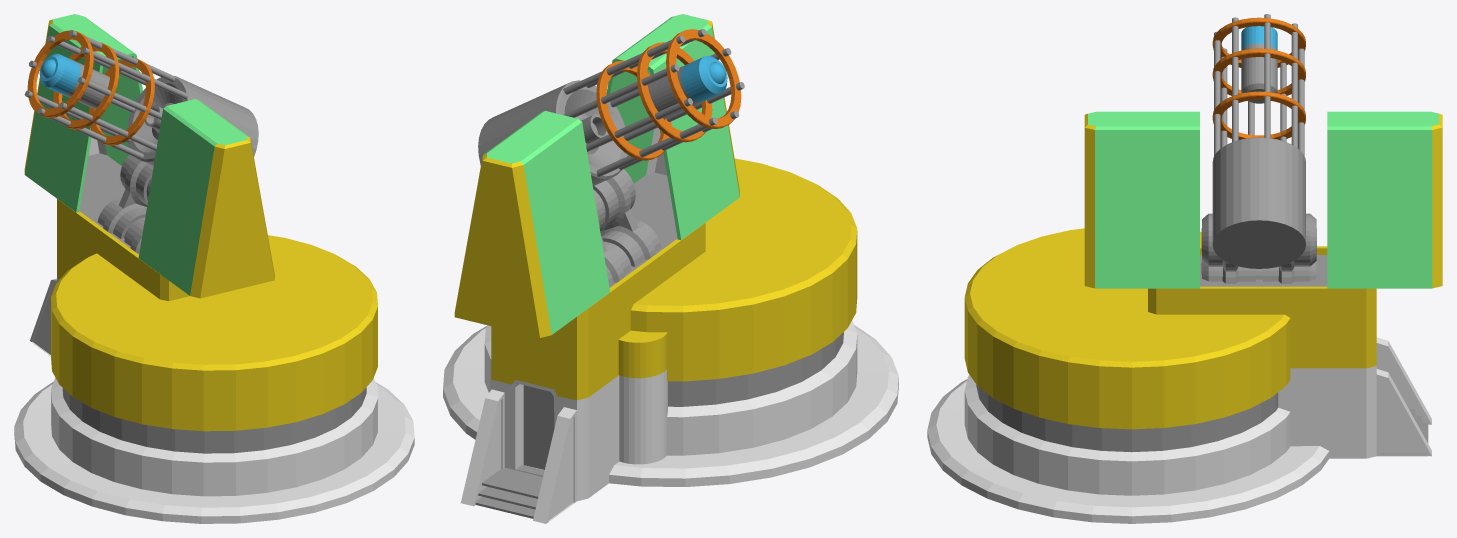
The model's file is Astro_Hub.fbx.
The picture shows the model from 3 angles, left to right: view 1: azimuth 30°, elevation 25°; view 2: azimuth 150°, elevation 25°; view 3: azimuth 270°, elevation 25°; orthographic projection. The views are drawn at different scales.
Parts seen in each view (by area): view 1: Cylinder.006; view 2: Cylinder.006; view 3: Cylinder.006.
Part boxes in pixels (x1,y1,x2,y2): Cylinder.006: [14, 14, 414, 523]; Cylinder.006: [443, 14, 898, 523]; Cylinder.006: [927, 14, 1442, 523].
Bounding box in the file's own units: 875 × 912 × 1103.
